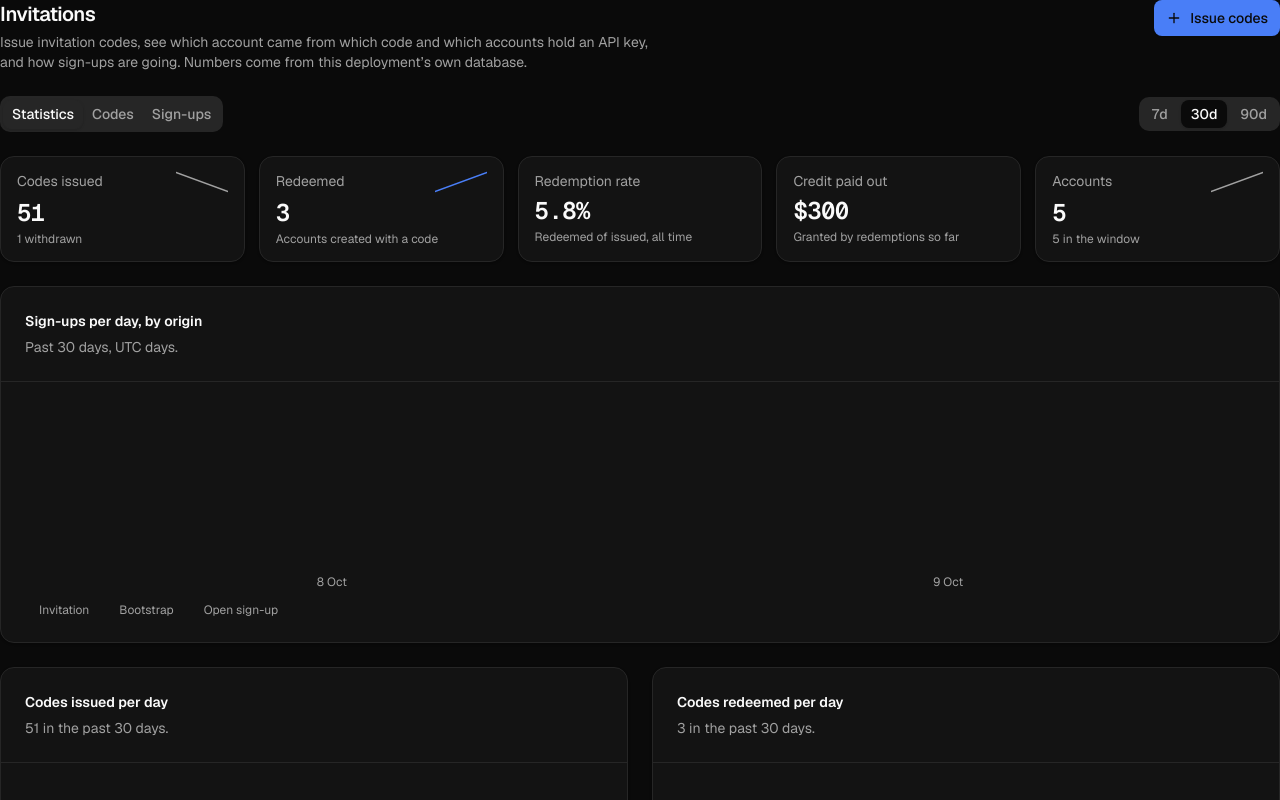
the Invitations section, on who holds an API key › narrows the list — and its total — to the accounts holding a live key
Click the tab "Sign-ups" at {"x": 182, "y": 114}, box [143,100,220,128]
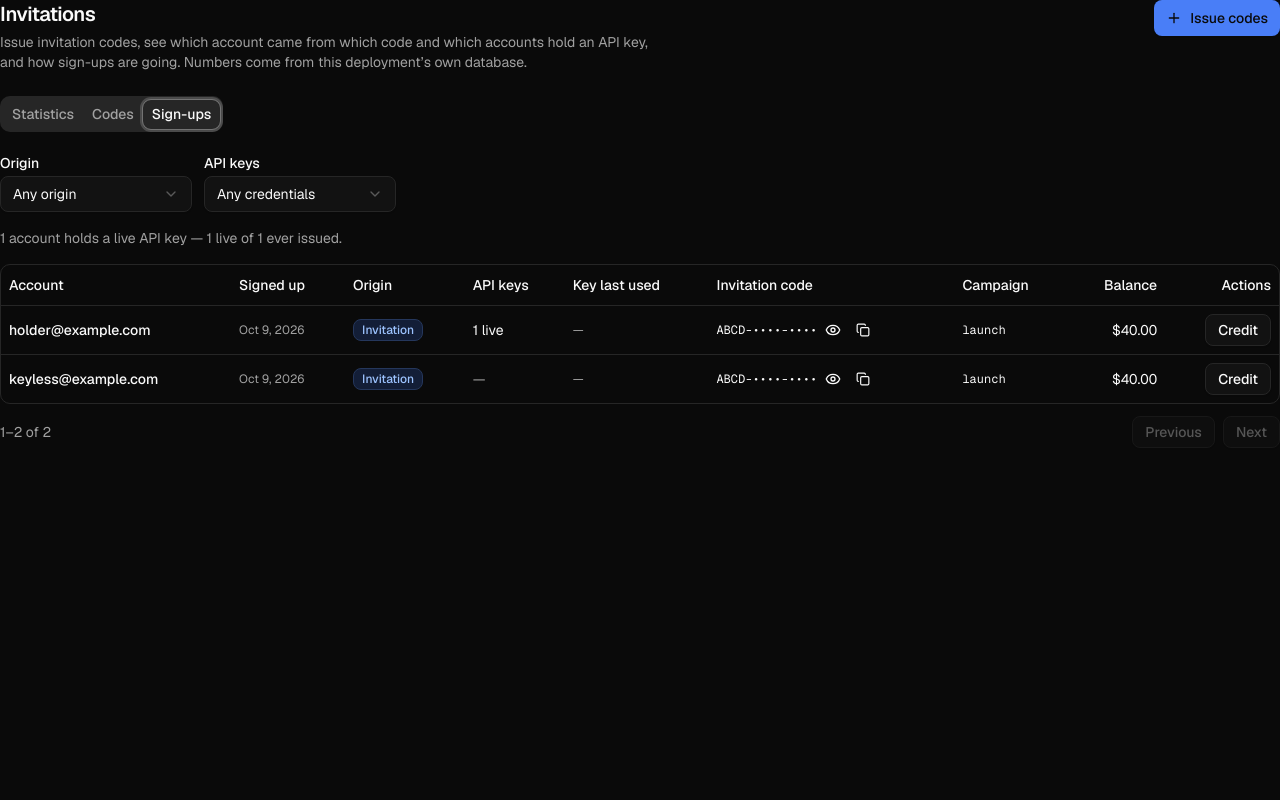
Expected: the row "keyless@example.com" is shown, [1,354,1279,402]
Click the dropdown named "API keys" at {"x": 300, "y": 194}, box [204,176,396,212]
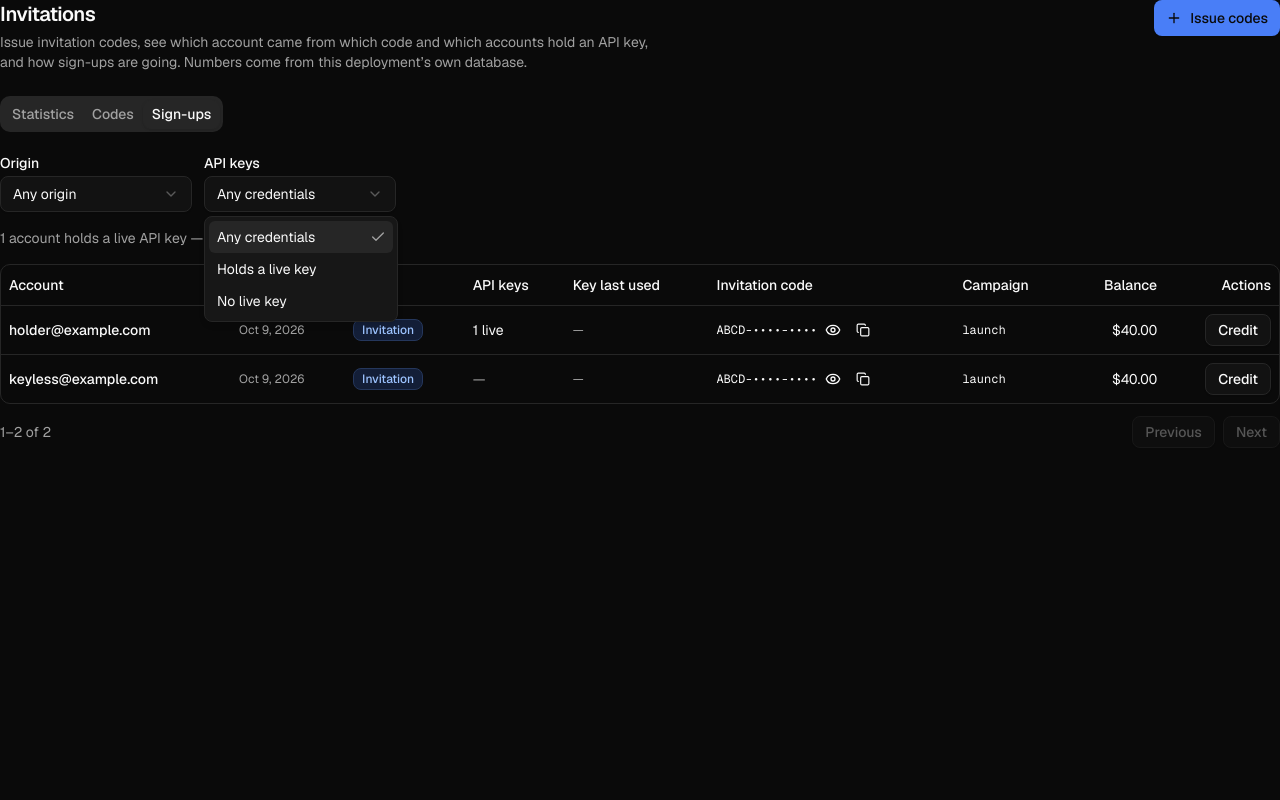
Click the option "Holds a live key" at {"x": 267, "y": 269}, box [217,260,317,278]
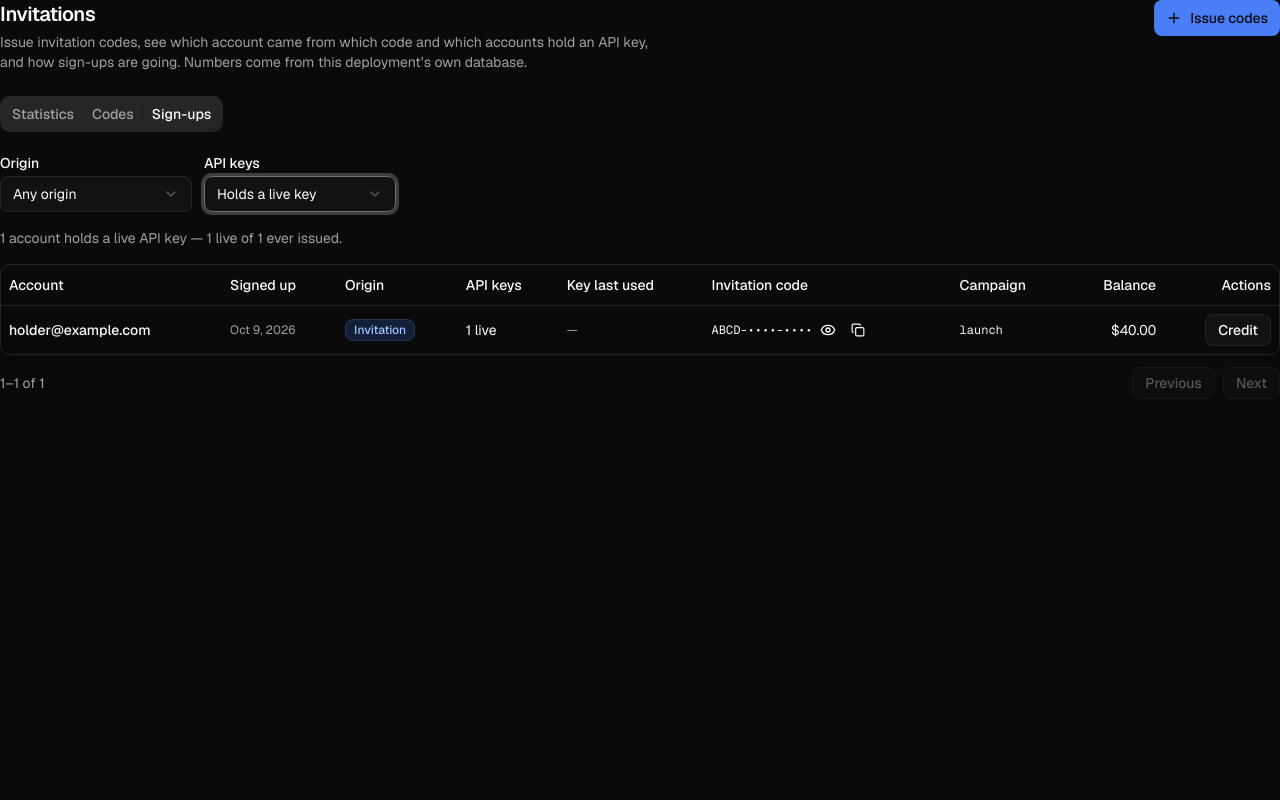
Expected: the row "holder@example.com" is shown, [1,305,1279,354]
Expected: the text "1–1 of 1" is shown, [0,372,44,392]
Expected: the cell "keyless@example.com" is gone
